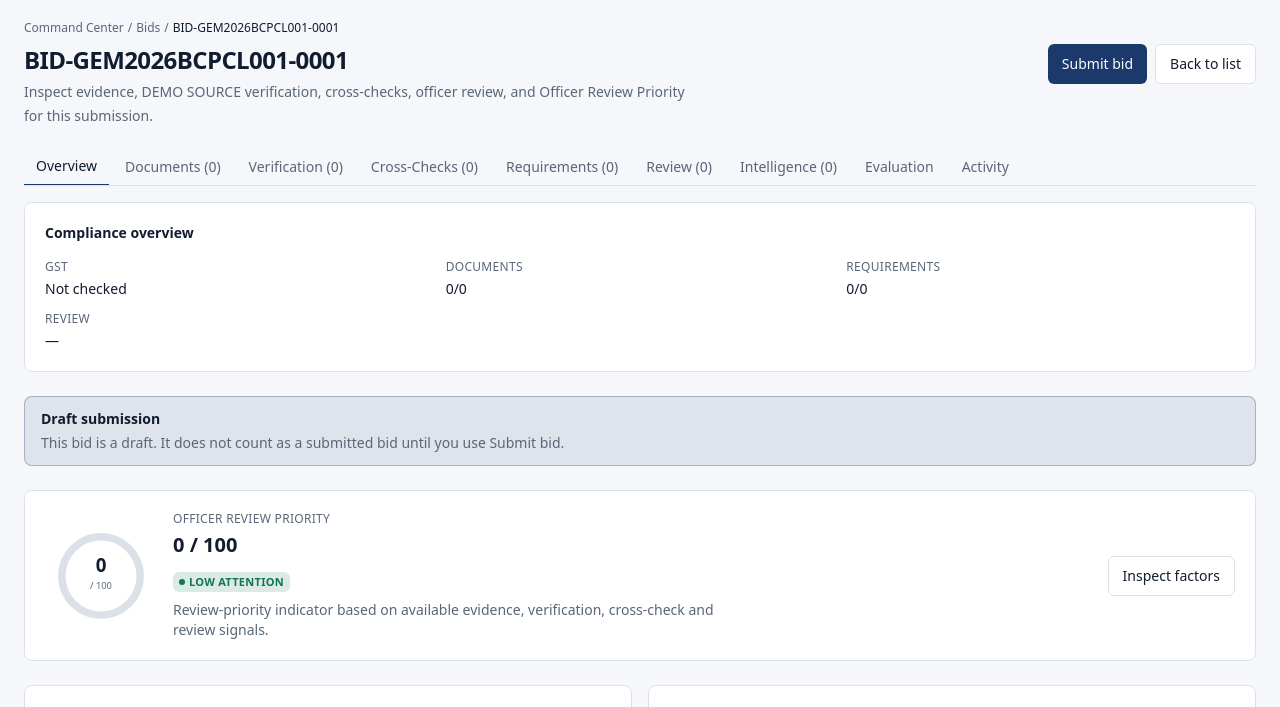
Test: BidDetailPage › opens a submit confirmation instead of submitting immediately
Expected: the tab "Overview" is shown, [24,148,109,186]
Expected: the tab "Documents (0)" is shown, [113,148,233,186]
Click the button "Submit bid" at (1098, 64), box [1048,44,1147,84]
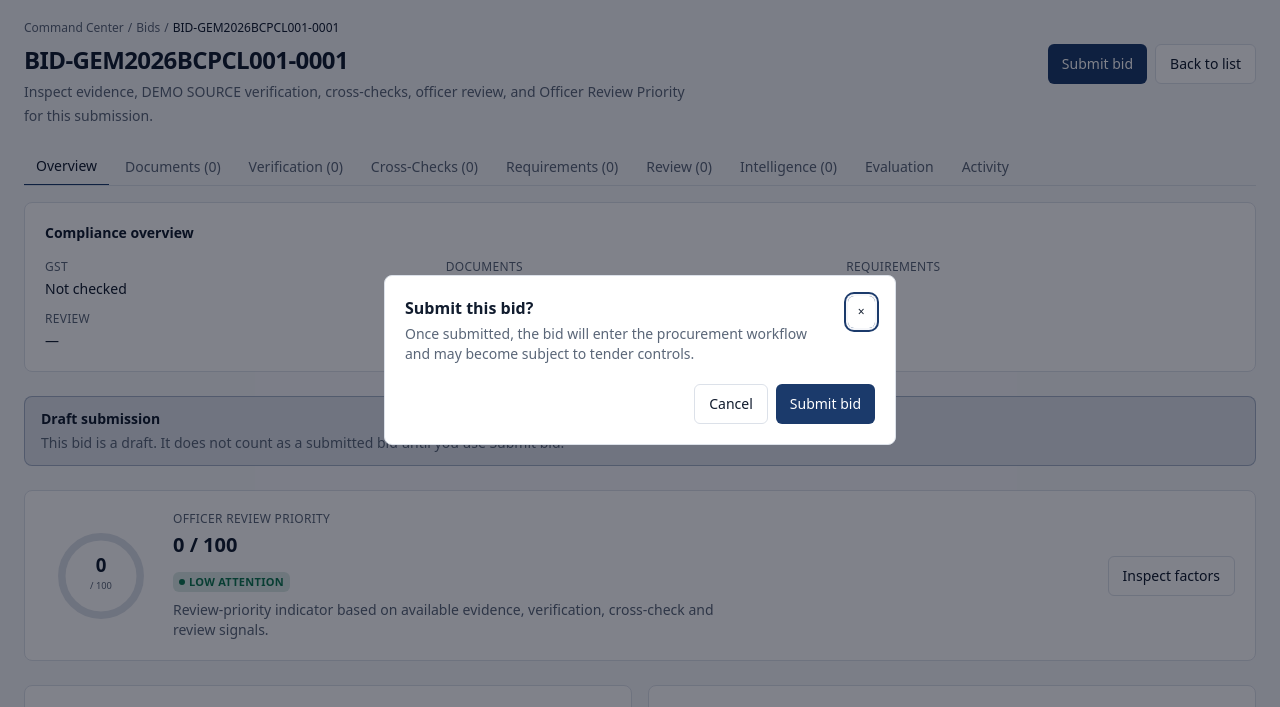
Expected: the dialog is shown, [384,275,896,445]
Expected: the heading "Submit this bid?" is shown, [405,297,533,319]
Expected: the button "Cancel" is shown, [694,384,768,424]
